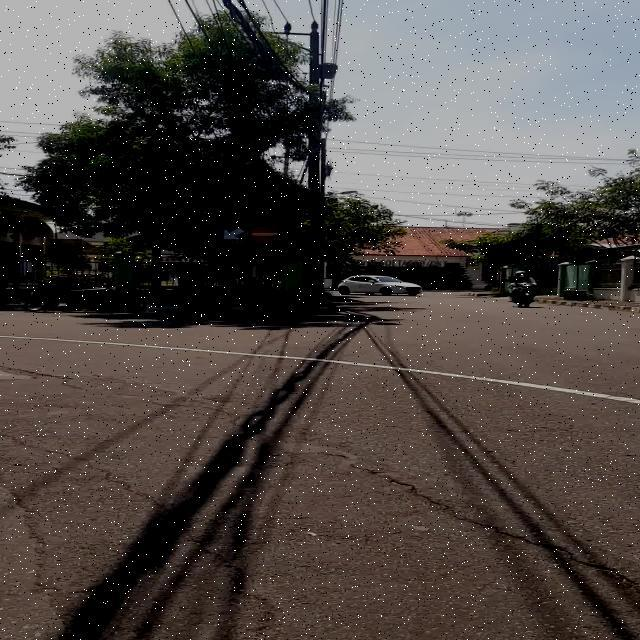Lajur Kiri: (216, 226, 248, 243)
